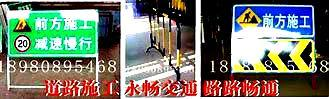sign: (234, 6, 315, 73), (8, 11, 97, 56)
